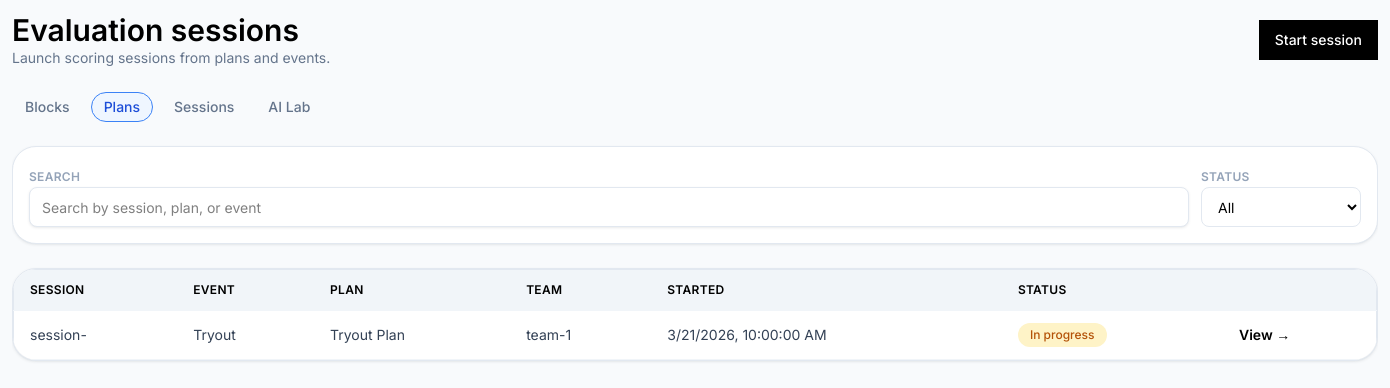
evaluations UI flows › filters sessions by search and status
Expected: the heading "Evaluation sessions" is shown, [12, 12, 330, 48]
In the field with placeholder "Search by session, plan, or event": x=609, y=207 [29, 187, 1189, 227], type "notfound"
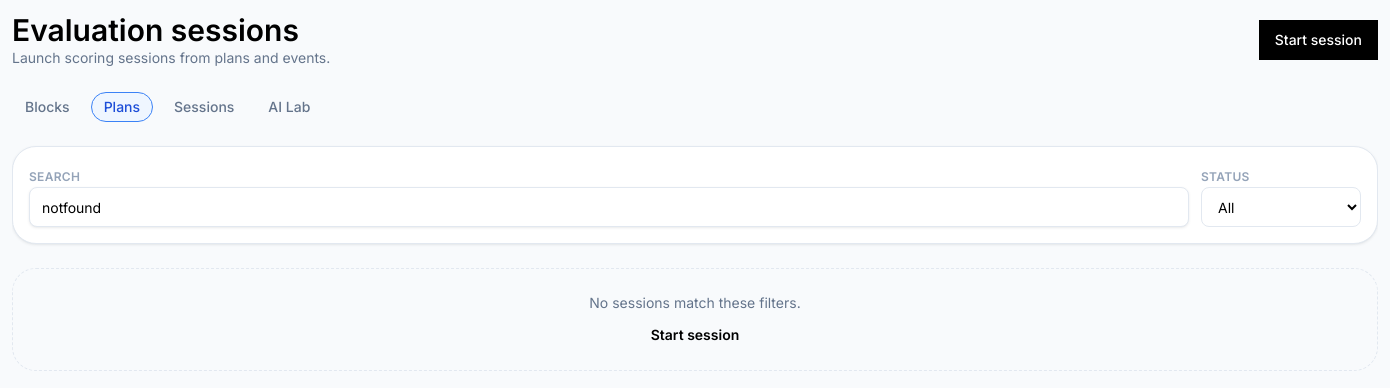
Now the text "No sessions match these filters." is shown, box [589, 294, 801, 311]
Replace the text in the field with placeholder "Search by session, plan, or event" with "tryout": x=609, y=207 [29, 187, 1189, 227]
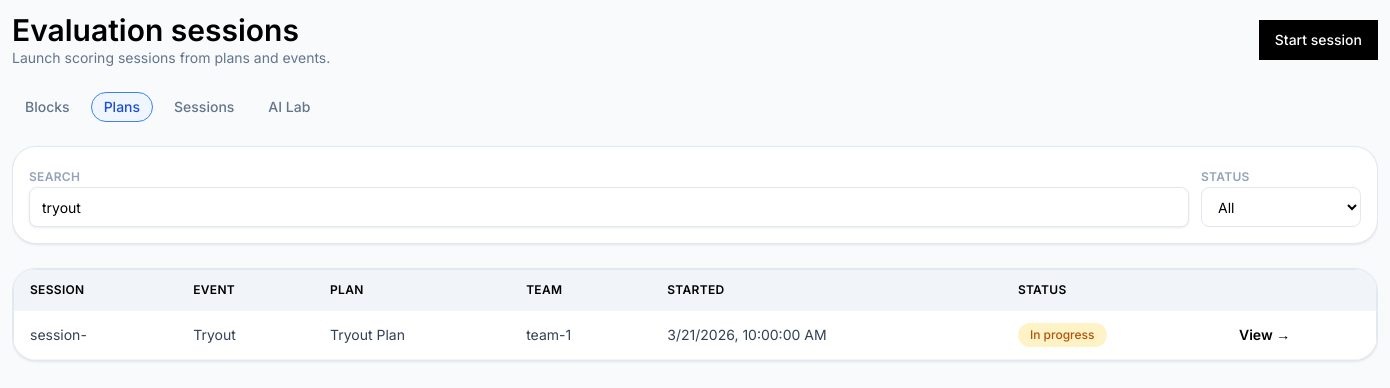
Now the text "No sessions match" is gone
Now the cell "Tryout" is shown, box [177, 310, 314, 360]
Now the cell "Tryout Plan" is shown, box [314, 310, 510, 360]
